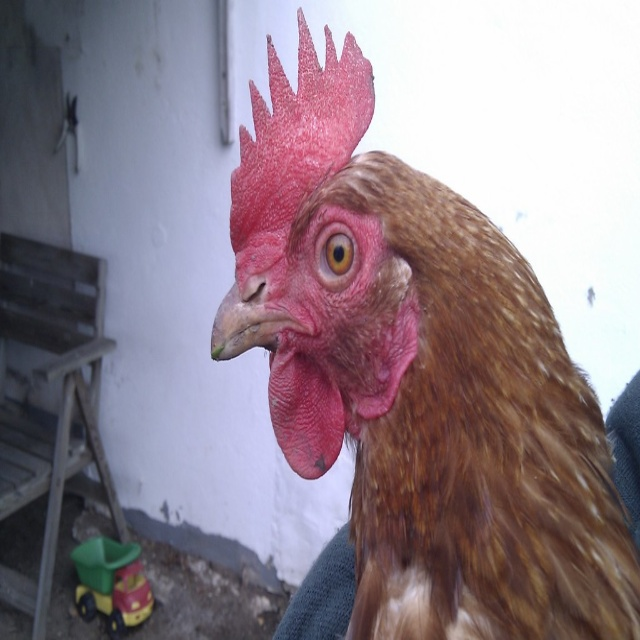Chicken: (211, 7, 640, 640)
